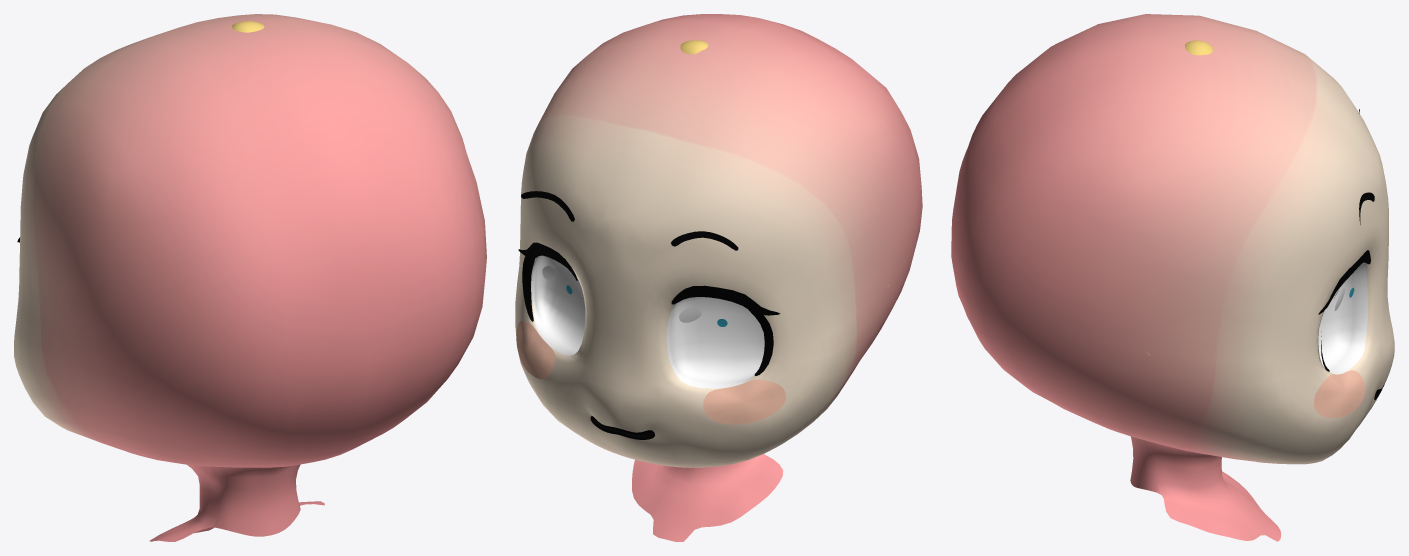
File: Head_baked.obj
3 views of the same model, side by side, from view 1: azimuth 30°, elevation 25°; view 2: azimuth 150°, elevation 25°; view 3: azimuth 270°, elevation 25° (orthographic). The views are drawn at different scales.
Size of the model in its own units: 0.2538 by 0.3483 by 0.2818.
Materials: 1 (1 with a texture image).
